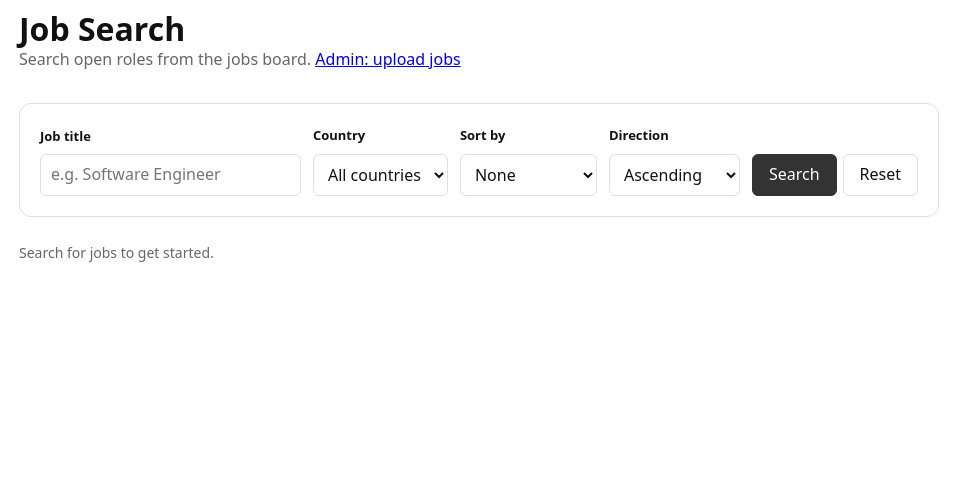
App › disables the Next button on the last page
Click the button "Search": click(794, 175) [752, 154, 836, 196]
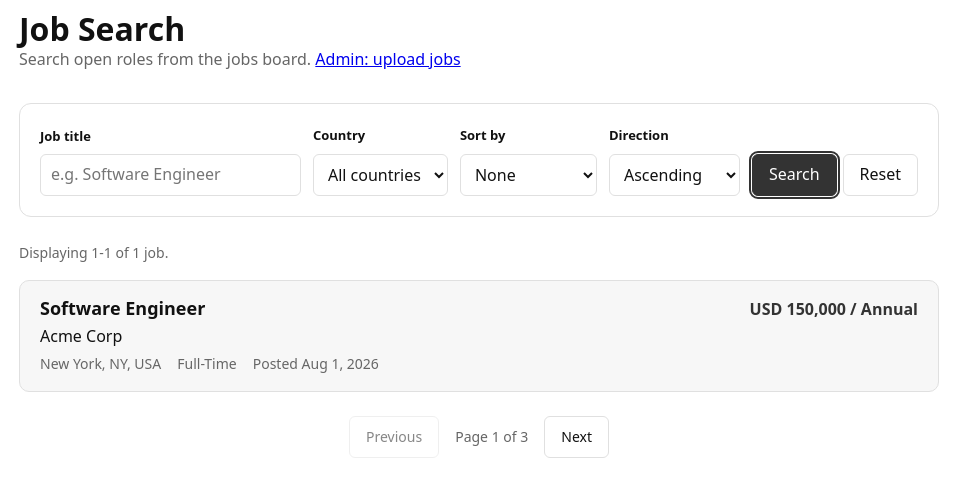
Expected: the text "Page 1 of 3" is shown, [455, 425, 528, 449]
Click the button "Next": click(577, 437) [544, 416, 609, 458]
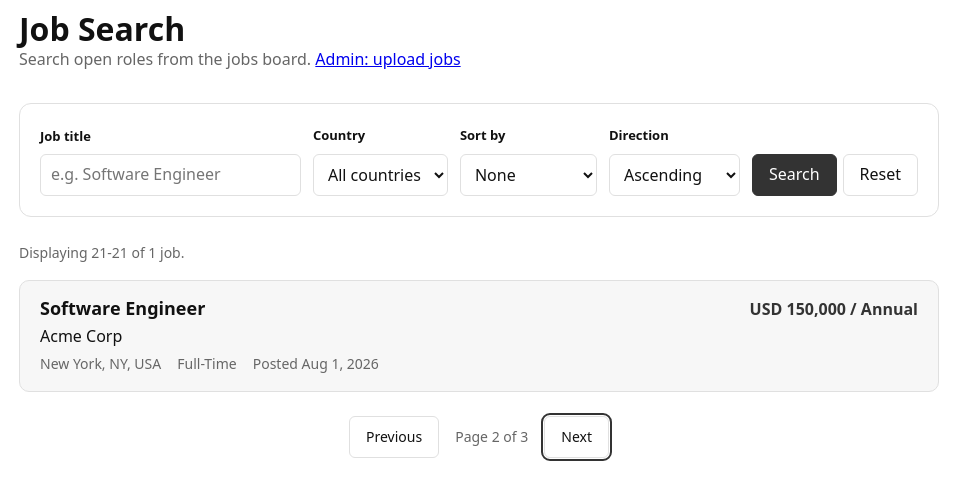
Expected: the text "Page 2 of 3" is shown, [455, 425, 528, 449]
Click the button "Next": click(577, 437) [544, 416, 609, 458]
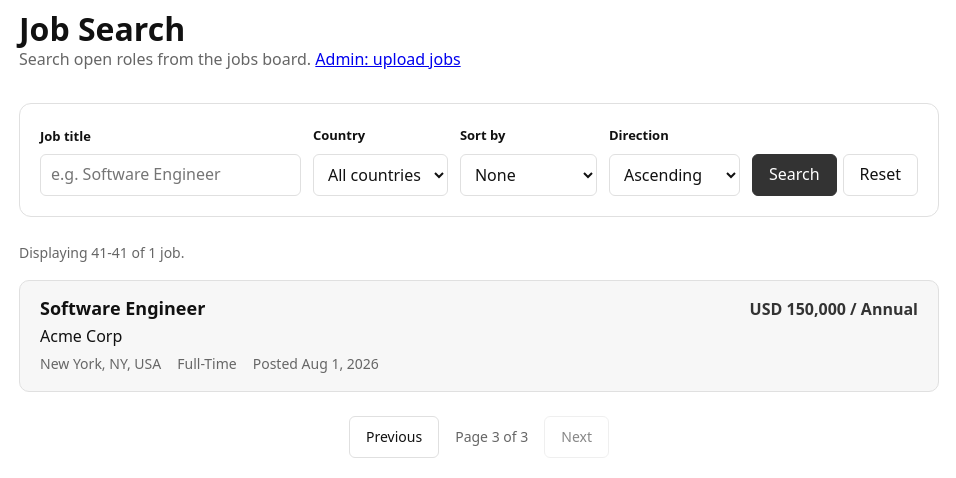
Expected: the text "Page 3 of 3" is shown, [455, 425, 528, 449]
Expected: the button "Next" is disabled, [544, 416, 609, 458]
